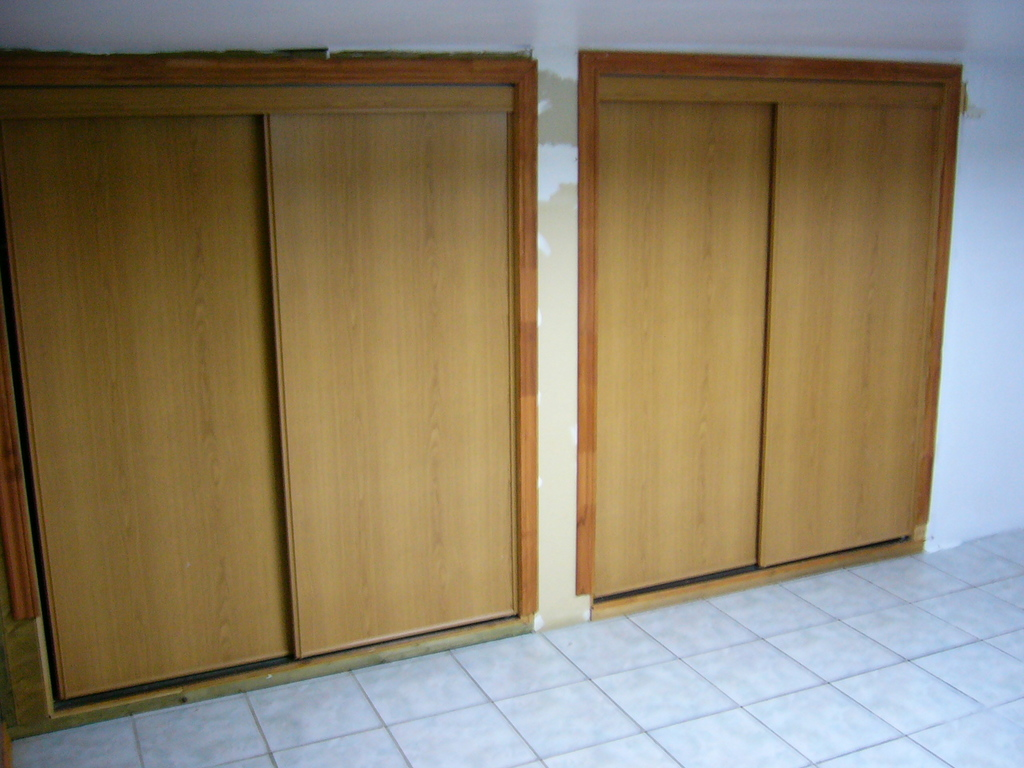door: (14, 117, 263, 670), (269, 110, 510, 621), (602, 93, 759, 572), (776, 94, 922, 530)
